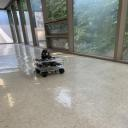cart: (33, 58, 65, 78)
